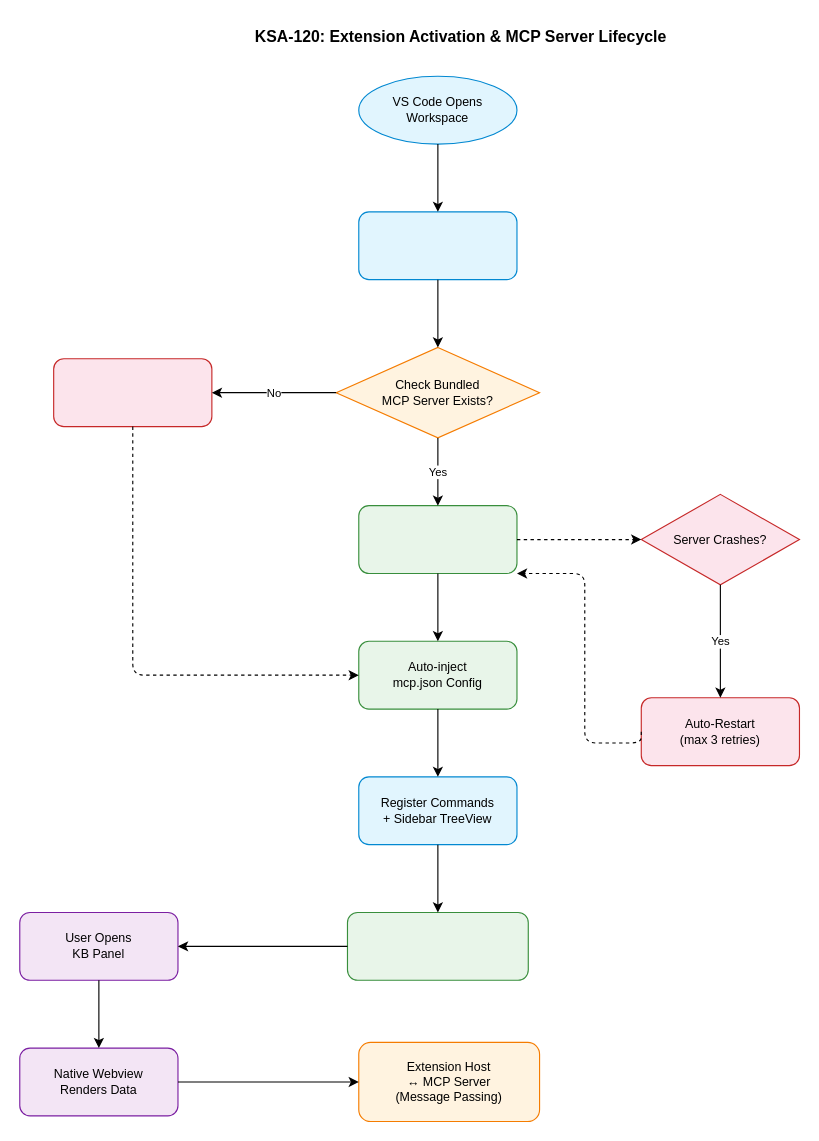
This 819x1141 diagram has some shape labels left out. The centre of each missing label's shape, as x and y in pixels:
Extension Activates: the point at 437,245
Extension Ready (All Features Active): the point at 437,945
Spawn Node.js Child Process: the point at 437,539
Use External MCP (npx/uvx/java): the point at 132,392
